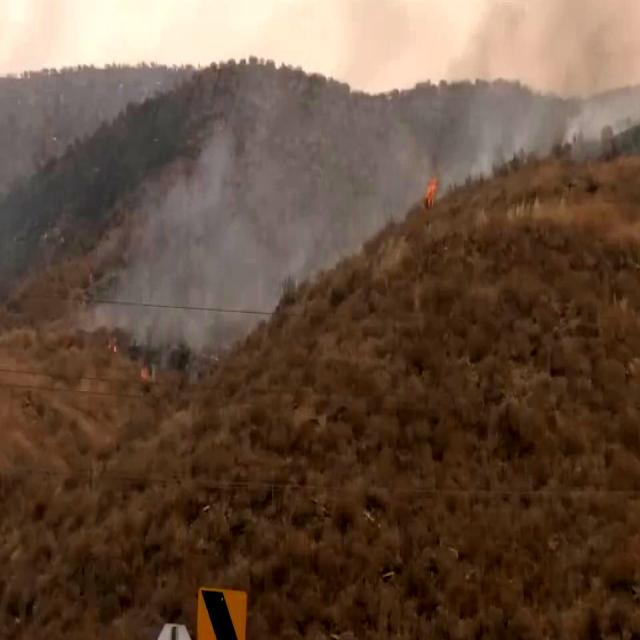smoke: (412, 44, 485, 176)
